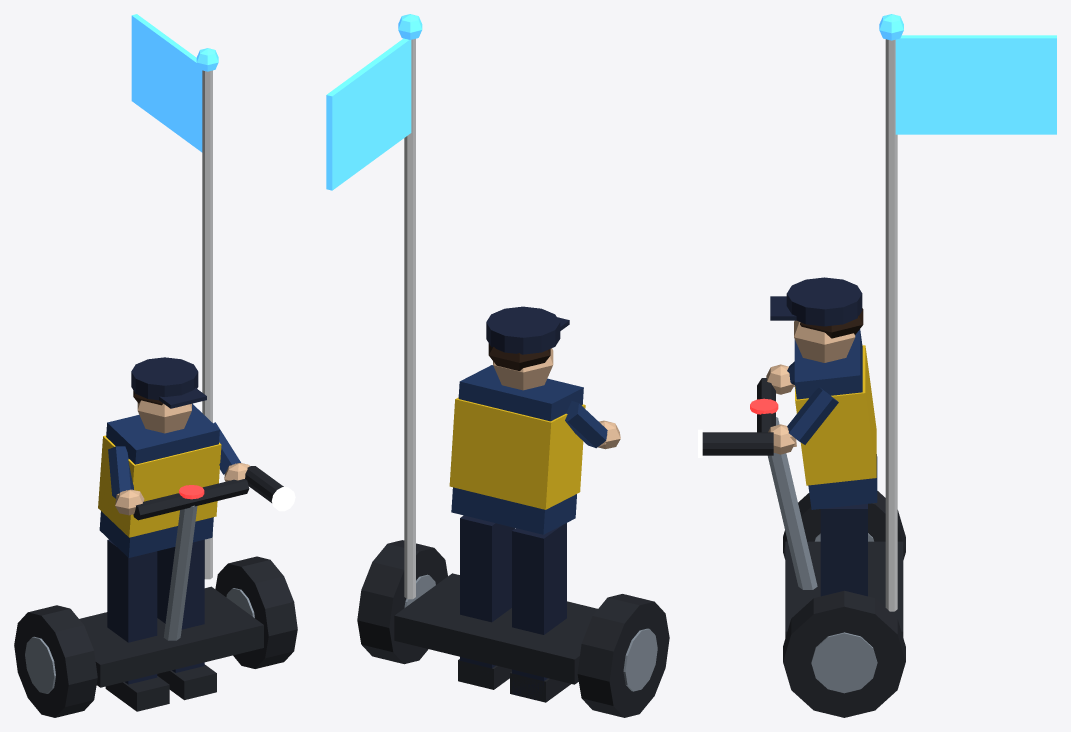
File: cart-rival-guard.glb
The picture shows the model from 3 angles, left to right: view 1: azimuth 30°, elevation 25°; view 2: azimuth 150°, elevation 25°; view 3: azimuth 270°, elevation 25°; orthographic projection. The views are drawn at different scales.
Parts seen in each view (by area): view 1: cart-rival-guard; view 2: cart-rival-guard; view 3: cart-rival-guard.
Boxes of the visible parts, bbox=[...] form: cart-rival-guard: bbox=[14, 14, 297, 717]; cart-rival-guard: bbox=[326, 14, 669, 717]; cart-rival-guard: bbox=[698, 14, 1056, 717].
Bounding box in the file's own units: 1.28 × 3.18 × 1.52.
